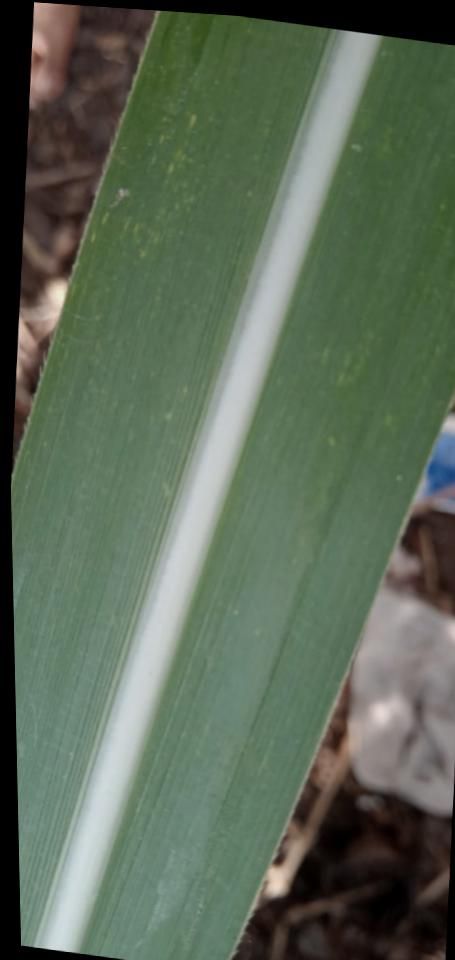Healthy: (11, 5, 455, 960)
